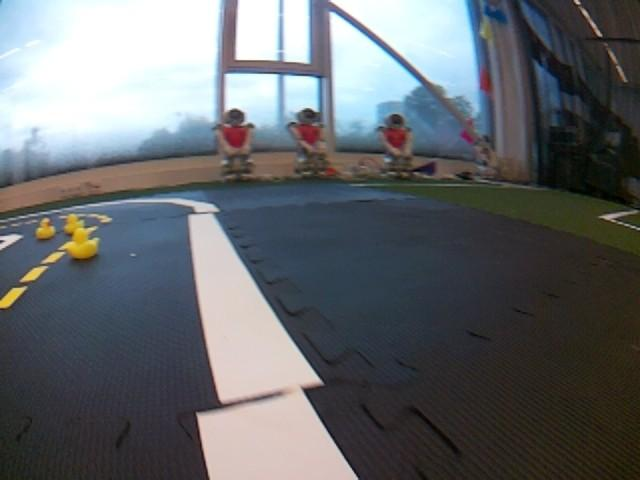Duckies: (64, 230, 101, 259), (35, 217, 57, 240), (63, 214, 88, 233)
